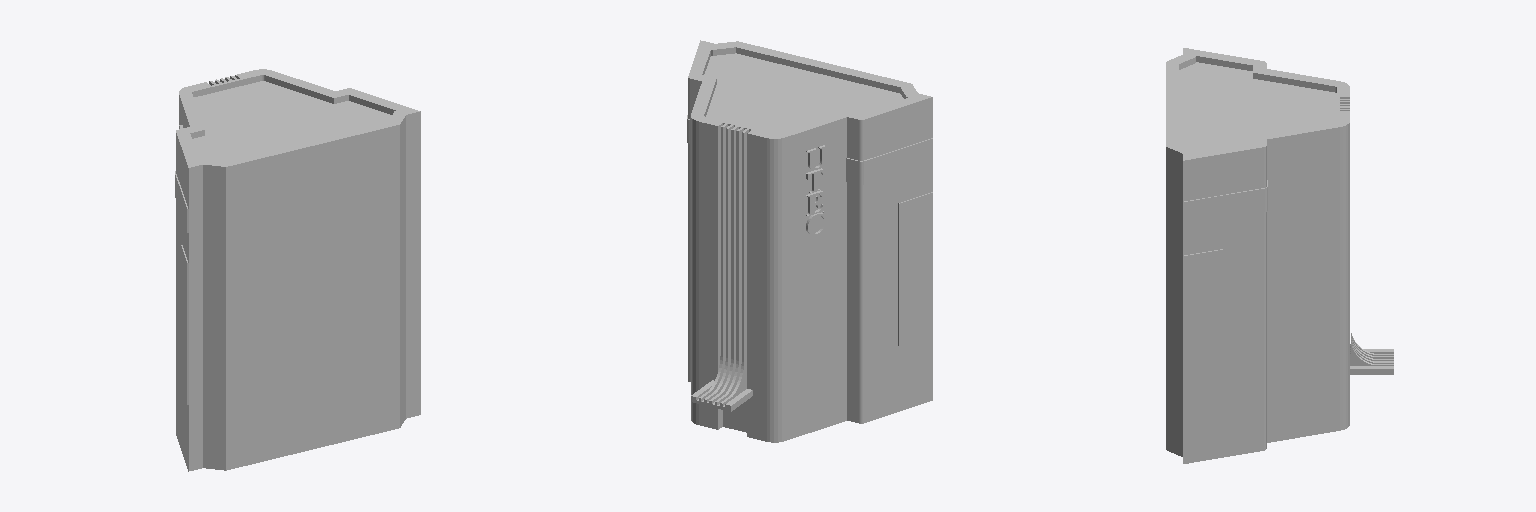
The model's file is Fundadores.obj.
3 views of the same model, side by side, from view 1: azimuth 30°, elevation 25°; view 2: azimuth 150°, elevation 25°; view 3: azimuth 270°, elevation 25° (orthographic).
Parts seen in each view (by area): view 1: Edificio; view 2: Edificio, Body6, Body4; view 3: Edificio, Body5, Body4.
Part boxes in pixels (bbox=[...]): Edificio: bbox=[176, 69, 420, 471]; Edificio: bbox=[688, 40, 932, 442]; Body6: bbox=[846, 138, 932, 184]; Body4: bbox=[691, 356, 752, 411]; Edificio: bbox=[1166, 48, 1349, 463]; Body5: bbox=[1183, 180, 1267, 225]; Body4: bbox=[1350, 333, 1393, 374].
Size of the model in its own units: 404 by 500 by 340.